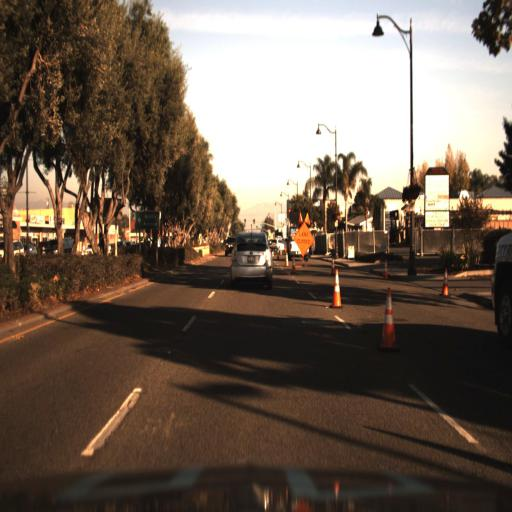car: (231, 230, 274, 290), (41, 234, 78, 260)
